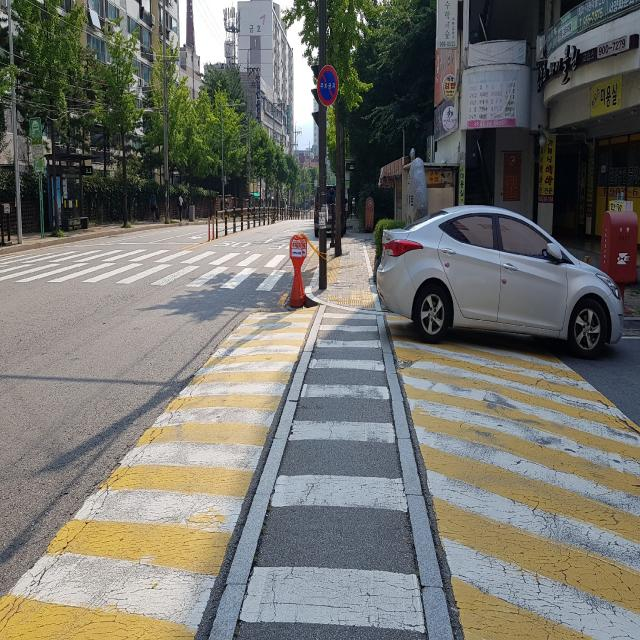횡단보도: (240, 313, 426, 632), (0, 226, 294, 301)
